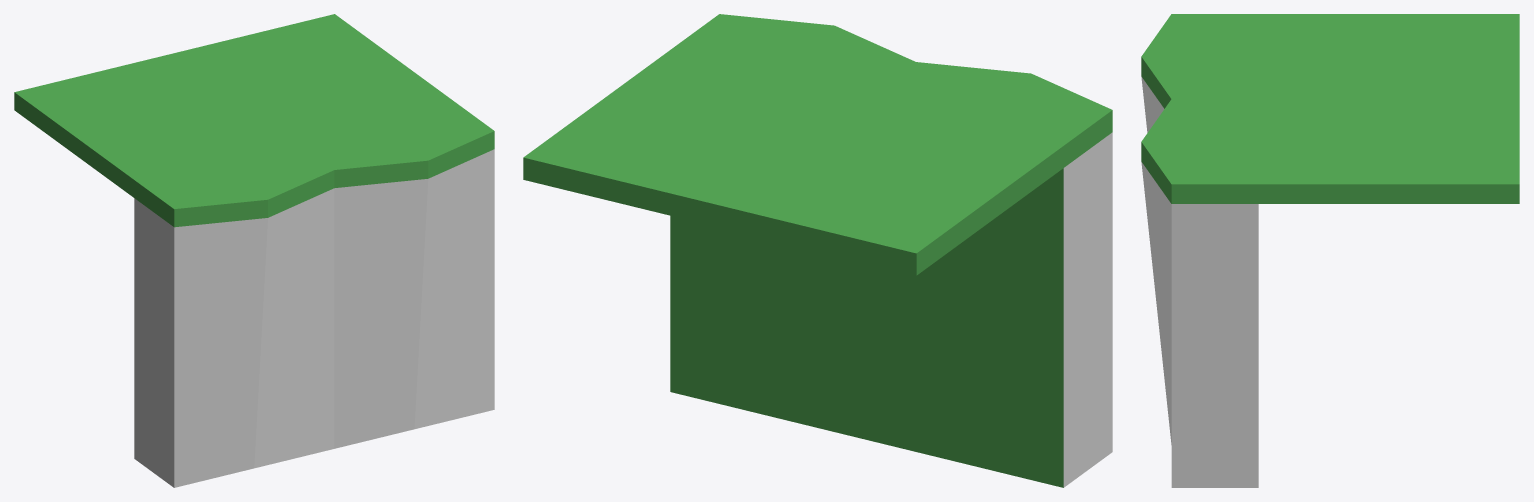
The model's file is edge_tile.glb.
The picture shows the model from 3 angles, left to right: view 1: azimuth 30°, elevation 25°; view 2: azimuth 150°, elevation 25°; view 3: azimuth 270°, elevation 25°; orthographic projection. The views are drawn at different scales.
Visible parts, largest first — view 1: Plane; view 2: Plane; view 3: Plane.
Boxes of the visible parts, <box> form: Plane: <box>14,14,494,487</box>; Plane: <box>523,14,1112,487</box>; Plane: <box>1141,14,1519,487</box>.
Size of the model in its own units: 2 by 1.66 by 1.88.
